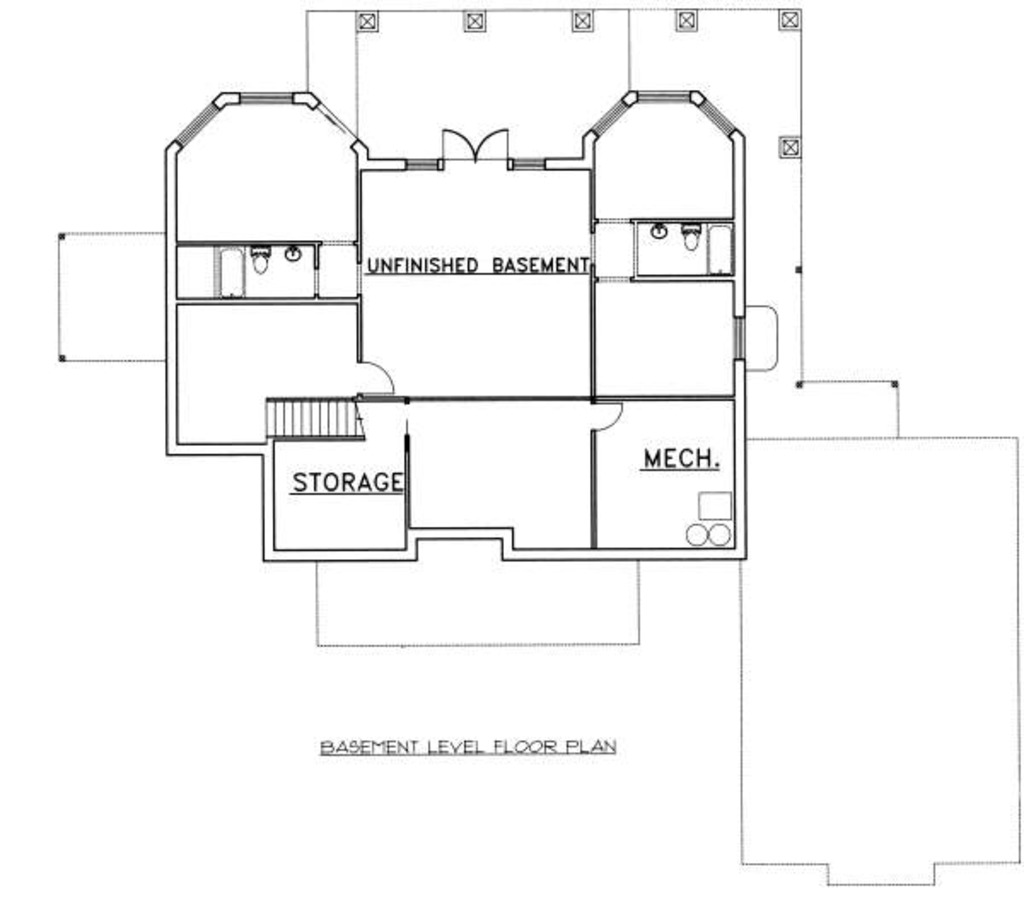door: (435, 120, 511, 170), (590, 397, 631, 442), (360, 361, 400, 391)
large_sink: (250, 241, 276, 281), (678, 222, 708, 256)
small_sink: (642, 220, 675, 249), (282, 237, 304, 273)
stairs: (253, 397, 365, 452)
tub: (704, 213, 735, 276), (213, 244, 245, 304)
window: (175, 79, 360, 141), (592, 83, 745, 136), (731, 313, 749, 372)
